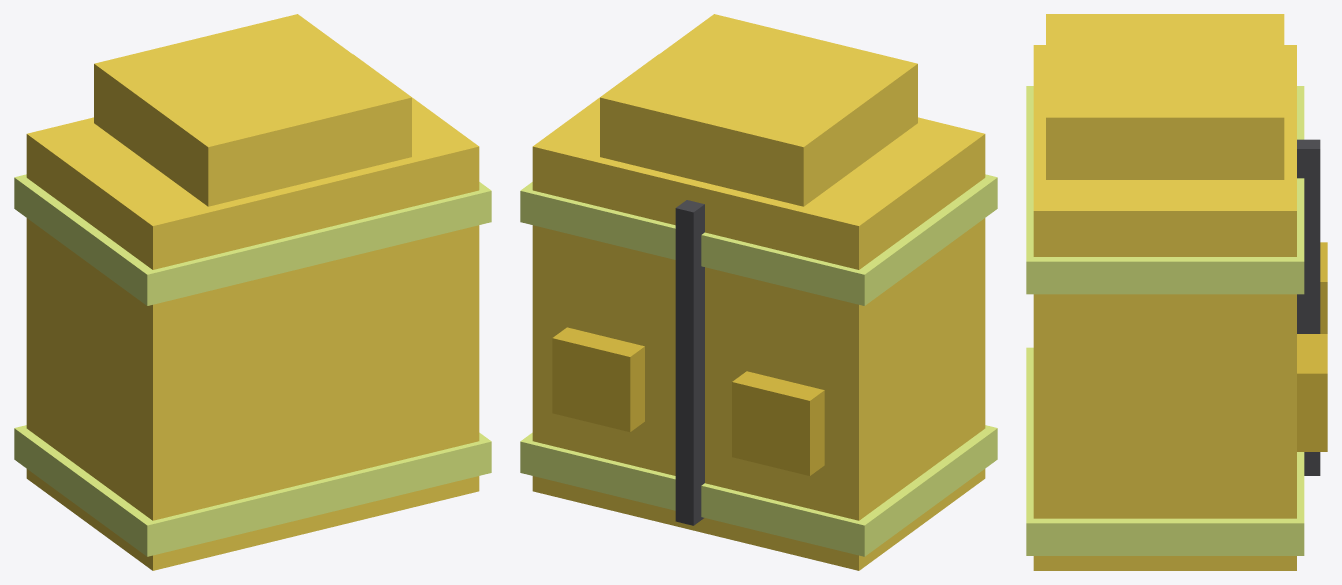
The model's file is bombeiro_tronco.glb.
The picture shows the model from 3 angles, left to right: view 1: azimuth 30°, elevation 25°; view 2: azimuth 150°, elevation 25°; view 3: azimuth 270°, elevation 25°; orthographic projection. The views are drawn at different scales.
Visible parts, largest first — view 1: bombeiro_tronco; view 2: bombeiro_tronco; view 3: bombeiro_tronco.
Part boxes in pixels (x1,y1,x2,y2): bombeiro_tronco: (14, 14, 491, 570); bombeiro_tronco: (520, 14, 997, 570); bombeiro_tronco: (1026, 14, 1327, 570).
Size of the model in its own units: 0.575 by 0.645 by 0.4175.
